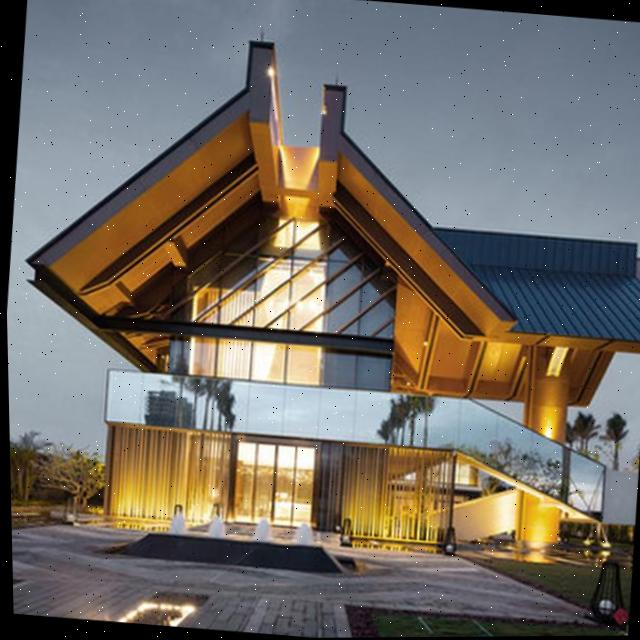building: (0, 9, 640, 561)
